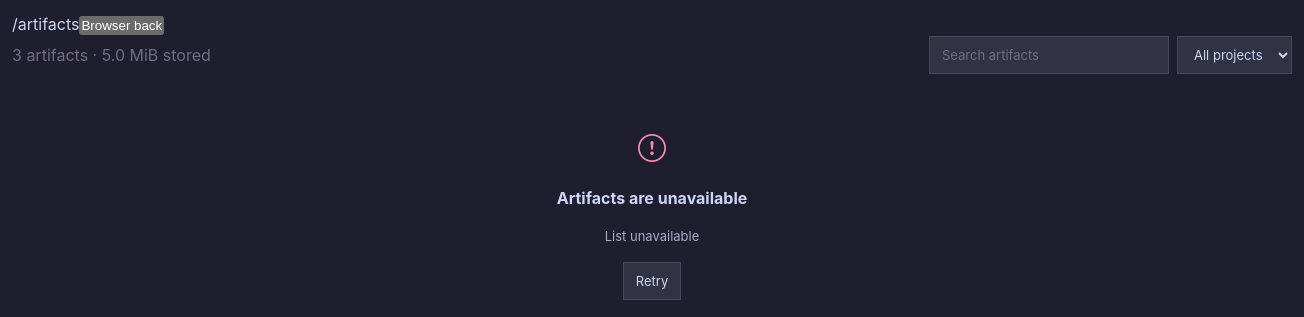
it: Artifacts page › retries a failed read without showing a false empty state
This screenshot has width=1304, height=317.
Expected: the message shows "List unavailable", [605,228,699,244]
Expected: the heading "Artifacts are unavailable" is shown, [557,186,747,210]
What coordinates should you click on to do the following:
click the button "Retry"
I would click on:
 (652, 281)
Its box is [623,262,681,300].
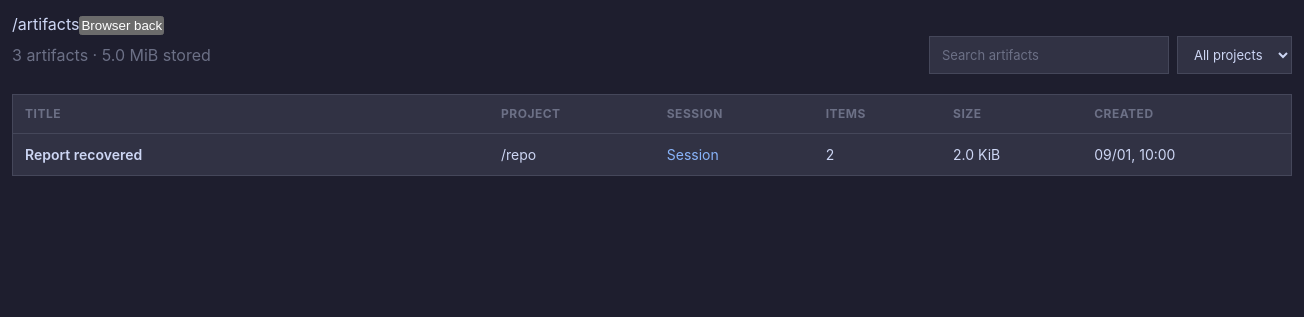
Expected: the link "Report recovered" is shown, [25,146,142,163]
